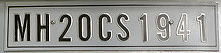0: (77, 13, 93, 42)
1: (137, 12, 151, 42), (195, 13, 209, 43)
2: (58, 13, 74, 43)
4: (175, 12, 192, 43)
9: (155, 12, 172, 43)
C: (97, 13, 114, 42)
H: (35, 13, 51, 42)
M: (13, 13, 32, 42)
S: (115, 13, 132, 43)
